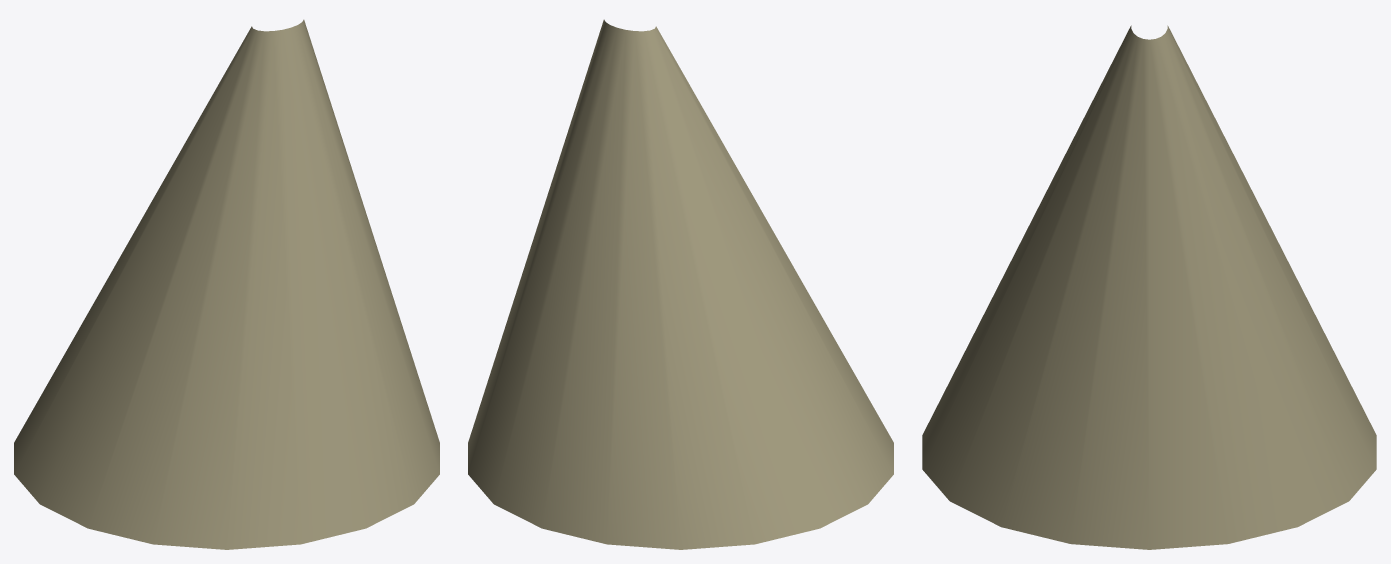
The model's file is LightCone.glb.
3 views of the same model, side by side, from view 1: azimuth 30°, elevation 25°; view 2: azimuth 150°, elevation 25°; view 3: azimuth 270°, elevation 25° (orthographic). The views are drawn at different scales.
Parts seen in each view (by area): view 1: LightCone; view 2: LightCone; view 3: LightCone.
Part boxes in pixels (box(x1,y1,x2,y2)): LightCone: box(14, 19, 439, 549); LightCone: box(468, 19, 893, 549); LightCone: box(922, 25, 1376, 549).
Bounding box in the file's own units: 5.91 × 6.39 × 5.82.
